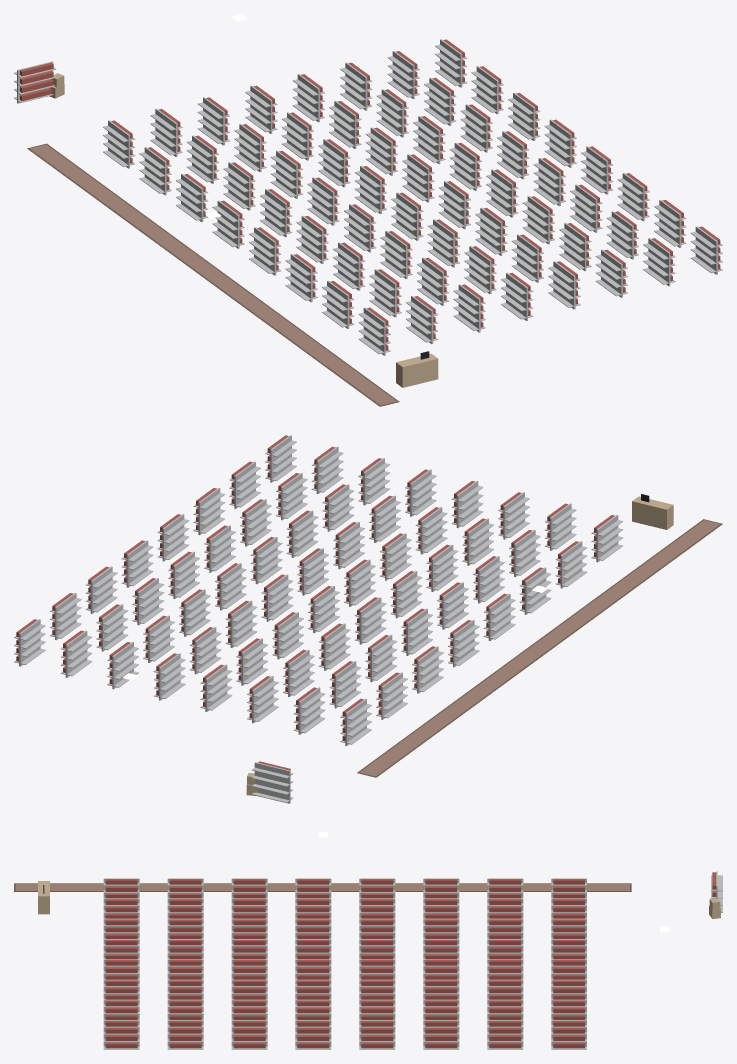
The model's file is fine-s0.glb.
The picture shows the model from 3 angles, top to bottom: view 1: azimuth 30°, elevation 25°; view 2: azimuth 150°, elevation 25°; view 3: azimuth 270°, elevation 25°; orthographic projection. The views are drawn at different scales.
Parts seen in each view (by area): view 1: soft-s0, shelving.000, shop-counter.000, shelf.014, shelf.045, shelf.001, shelf.005, shelf.019, shelf.021, shelf.052, shelf.007, shelf.008 (+55 smaller); view 2: soft-s0, shelving.000, shop-counter.000, shelf.021, shelf.061, shelf.010, shelf.018, shelf.034, shelf.058, shelf.024, shelf.031, shelf.032 (+55 smaller); view 3: soft-s0, shelf.057, shelf.058, shelf.059, shelf.060, shelf.061, shelf.062, shelf.063, shelf.056, shelf.009, shelf.010, shelf.011 (+54 smaller).
Boxes of the visible parts, x1,y1,x2,y2 form: soft-s0: (27,143,399,406); shelving.000: (14,61,56,103); shop-counter.000: (396,351,438,387); shelf.014: (369,269,401,317); shelf.045: (522,196,554,244); shelf.001: (139,147,171,195); shelf.005: (285,254,317,302); shelf.019: (307,177,339,225); shelf.021: (380,231,412,278); shelf.052: (533,158,565,205); shelf.007: (358,307,390,355); shelf.008: (150,108,182,156); soft-s0: (357,519,722,777); shelving.000: (251,761,293,803); shop-counter.000: (632,494,673,529); shelf.021: (426,544,458,591); shelf.061: (193,487,225,535); shelf.010: (365,634,397,682); shelf.018: (318,623,350,670); shelf.034: (225,600,257,647); shelf.058: (85,566,117,613); shelf.024: (200,664,232,711); shelf.031: (451,480,483,527); shelf.032: (153,653,185,700); soft-s0: (14,883,631,891); shelf.057: (487,1020,523,1049); shelf.058: (423,1020,459,1049); shelf.059: (359,1020,395,1049); shelf.060: (295,1020,331,1049); shelf.061: (231,1020,267,1049); shelf.062: (167,1020,203,1049); shelf.063: (103,1020,139,1049); shelf.056: (551,1020,586,1049); shelf.009: (487,898,523,918); shelf.010: (423,898,459,918); shelf.011: (359,898,395,918).
Size of the model in its own units: 19.95 by 2.95 by 35.49.
